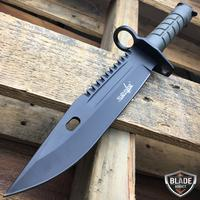knife: (3, 25, 172, 197)
